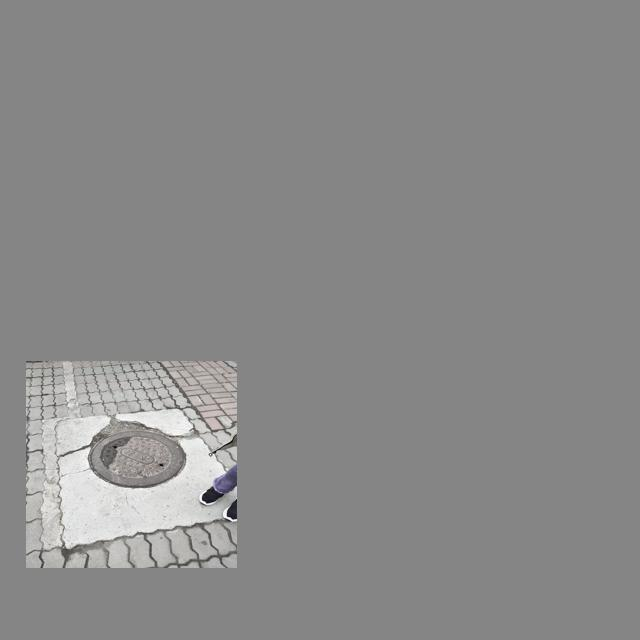circle: (64, 416, 205, 497)
